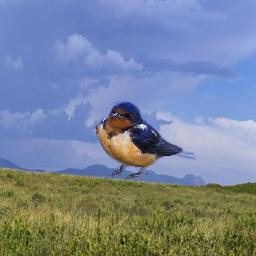Swallow: (92, 100, 196, 180)
